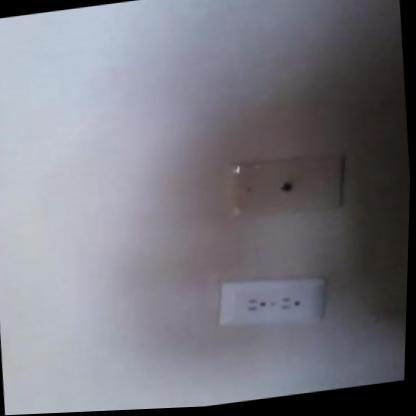OUTLET: (218, 270, 325, 332)
